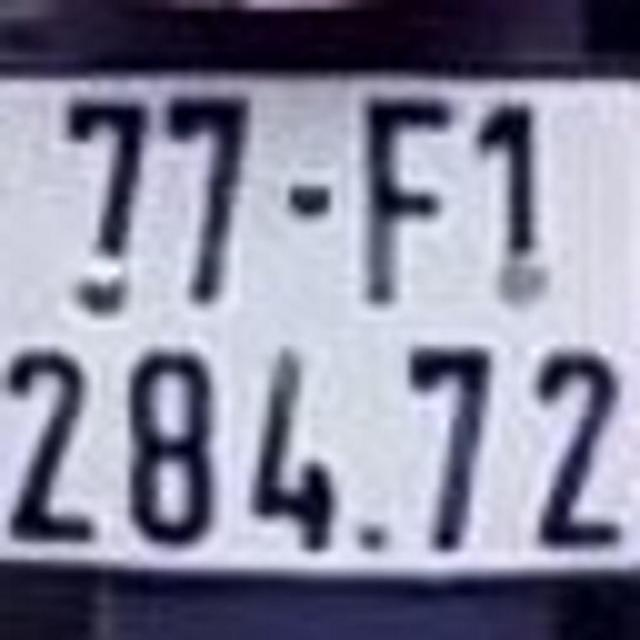1: (481, 94, 538, 316)
2: (533, 342, 623, 548), (8, 346, 94, 545)
4: (250, 348, 340, 559)
7: (164, 80, 255, 308), (408, 338, 492, 556), (60, 101, 144, 318)
8: (130, 348, 212, 543)
F: (370, 86, 450, 310)
